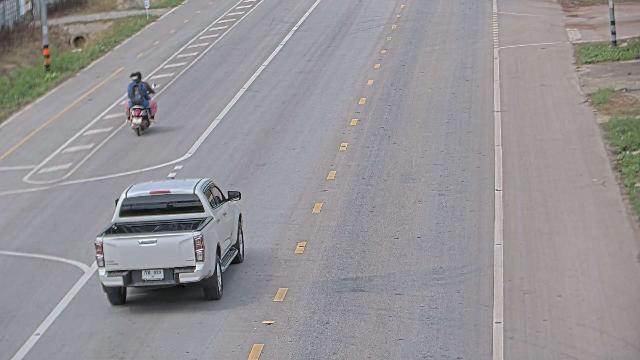pickup-truck: (93, 176, 245, 306), (125, 82, 157, 136)
